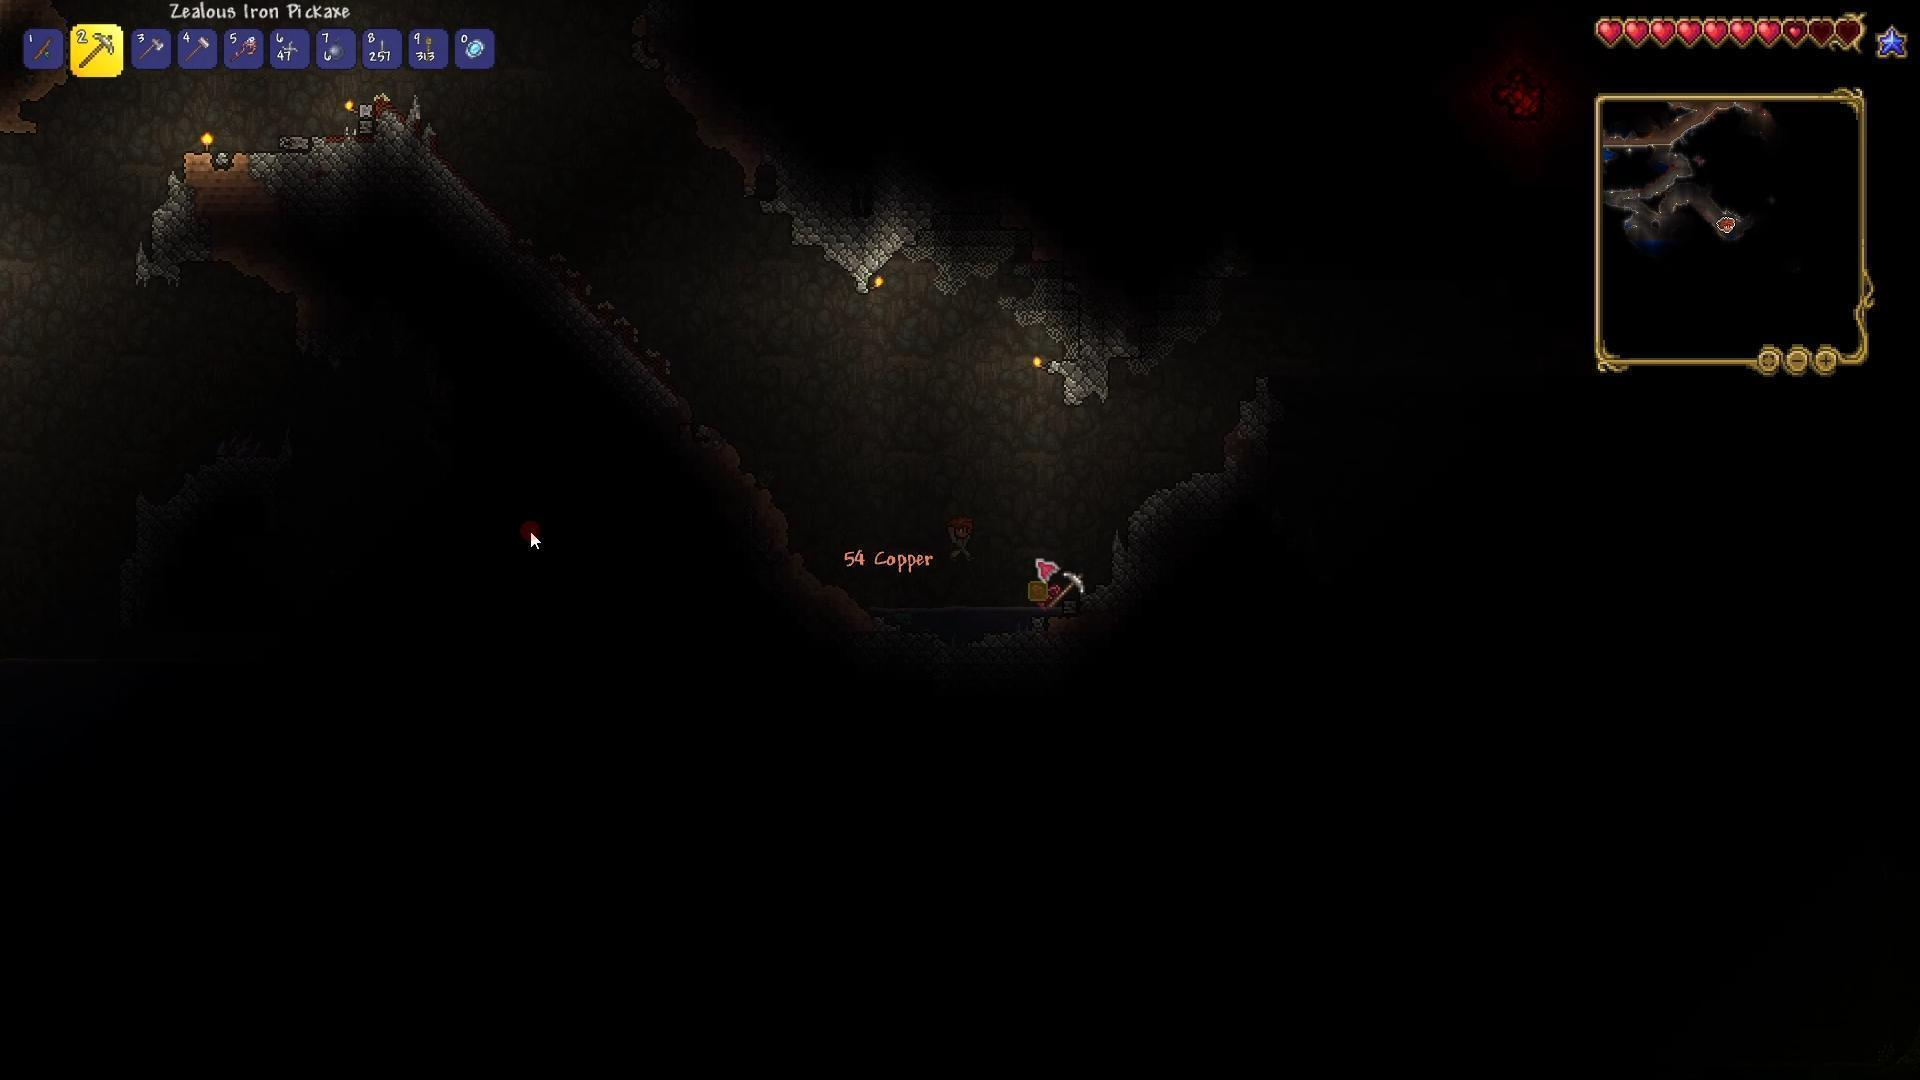axe: (135, 34, 169, 65)
bomb: (324, 40, 347, 63)
lifeC: (1026, 576, 1064, 621)
